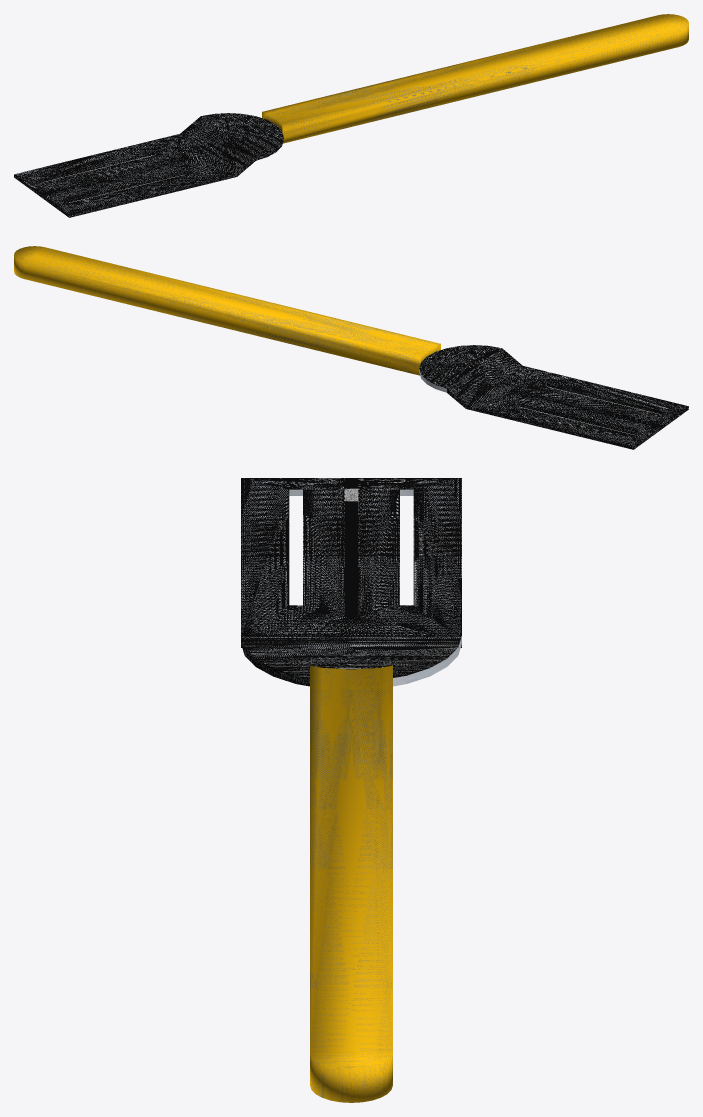
The model's file is turner_02_origin_gt_1.dae.
3 views of the same model, one above another, from view 1: azimuth 30°, elevation 25°; view 2: azimuth 150°, elevation 25°; view 3: azimuth 270°, elevation 25° (orthographic). The views are drawn at different scales.
Parts seen in each view (by area): view 1: Untitled (×4); view 2: Untitled (×4); view 3: Untitled (×3).
Boxes of the visible parts, <box> form: Untitled (×4): <box>14,14,688,217</box>; Untitled (×4): <box>14,246,688,449</box>; Untitled (×3): <box>241,478,461,1102</box>.
Size of the model in its own units: 13.46 by 2 by 0.5.
Materials: 6 (2 with a texture image).
